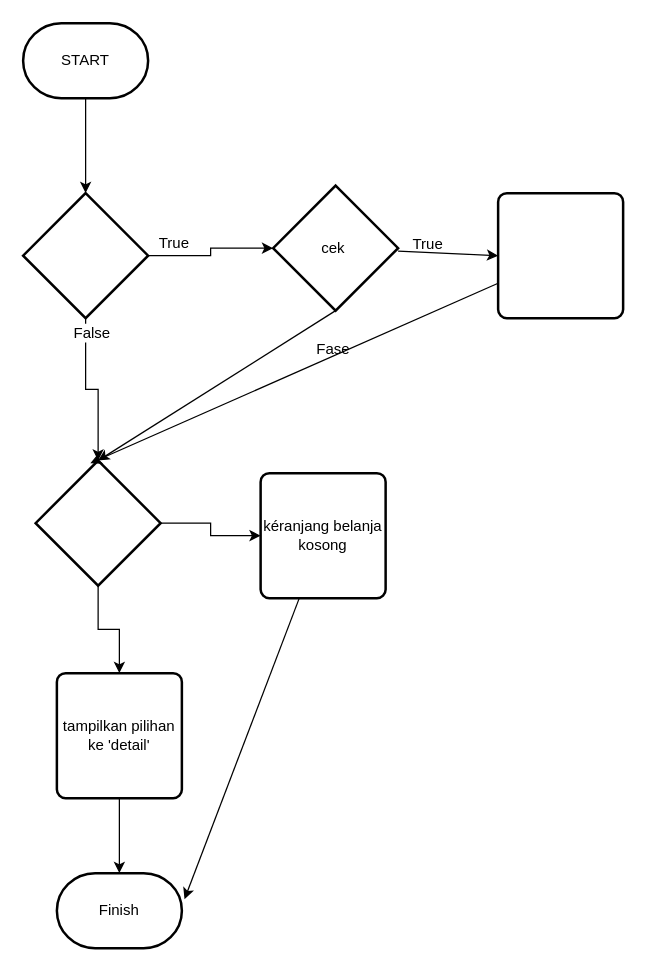
This 645x970 diagram has some shape labels left out. Here are the shapes that lost their labels. From the top down, the box of each, then its label:
(21, 191, 149, 319): $value >0
(496, 191, 624, 319): menampilkan daftar produk yang dipilih, dan menjumlahkan tiap sub harganya
(34, 459, 161, 586): total =0
